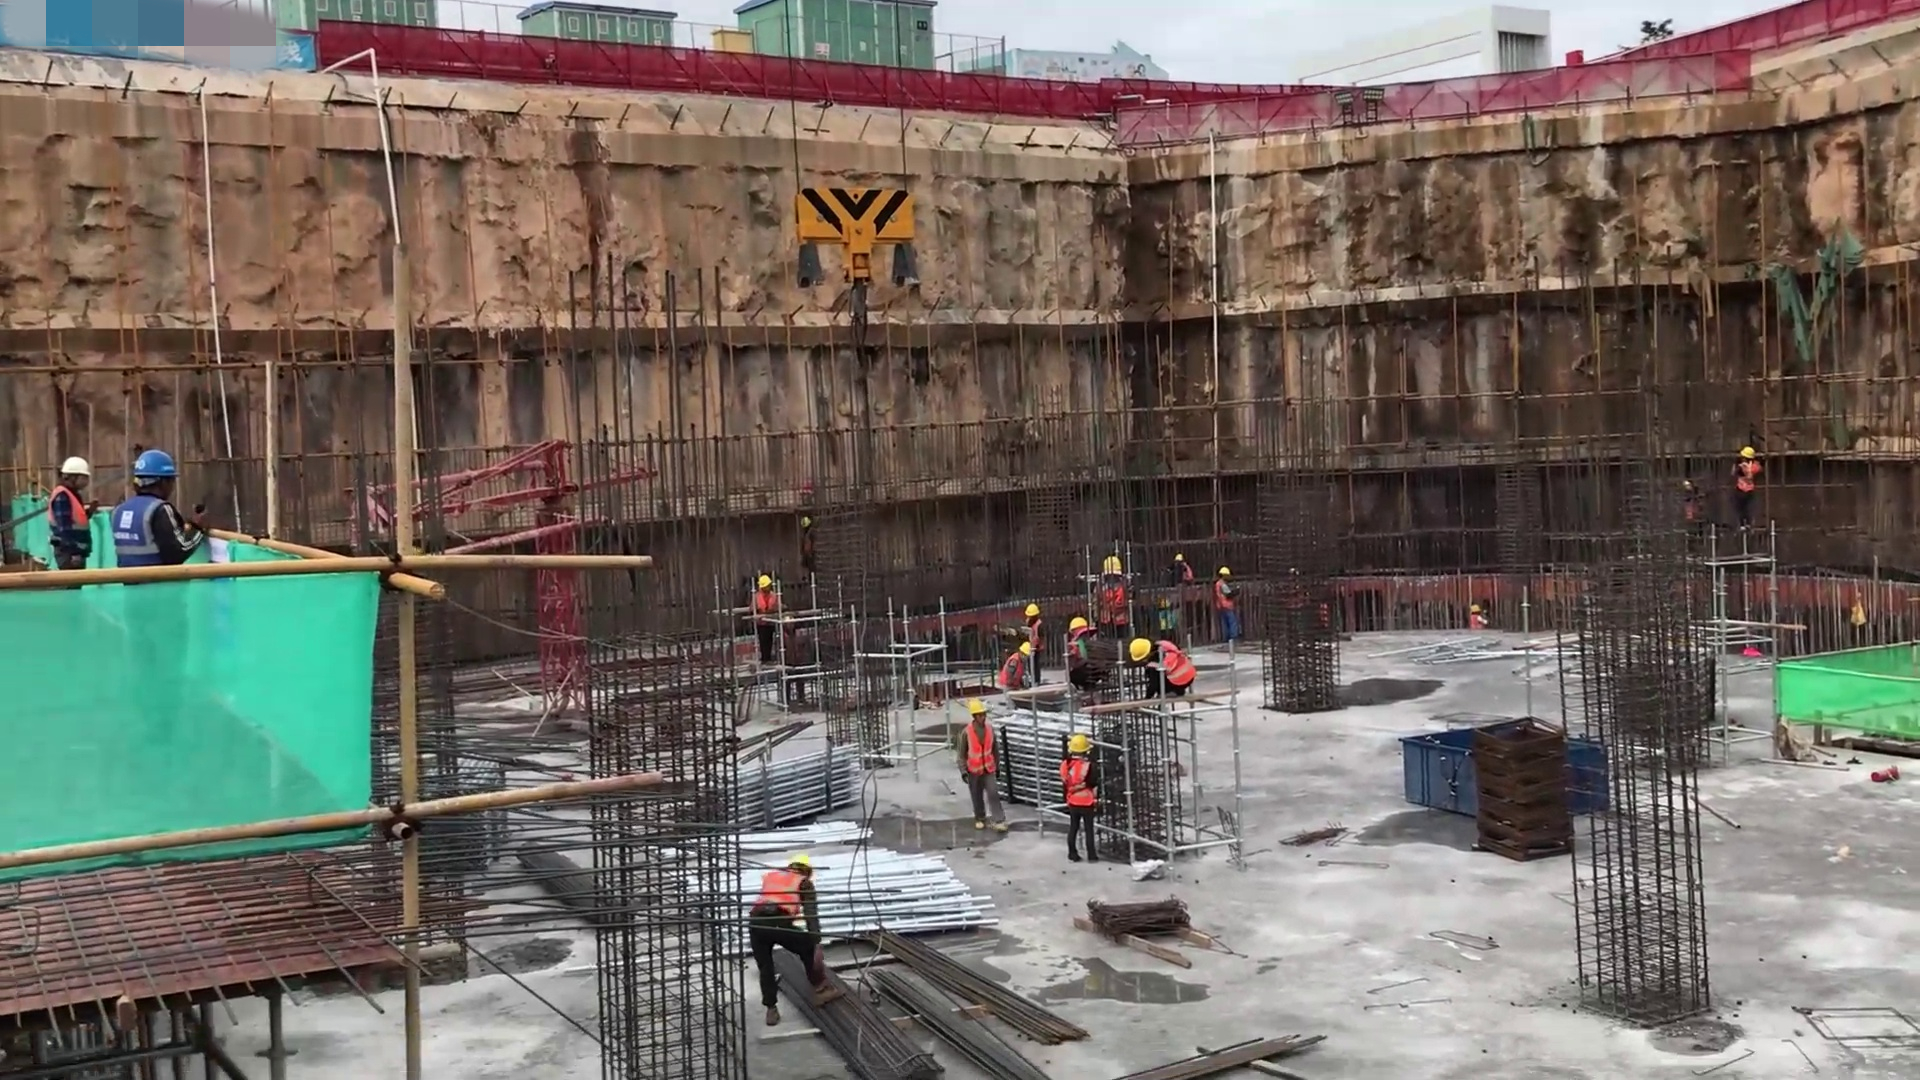helmet: (132, 449, 182, 481), (59, 455, 92, 479), (1131, 637, 1151, 662), (1069, 735, 1091, 755), (788, 853, 812, 869), (968, 699, 987, 717), (1068, 617, 1089, 633), (1103, 556, 1121, 574), (1025, 602, 1041, 618), (1740, 445, 1757, 460), (757, 573, 771, 589), (1019, 640, 1029, 660), (1219, 567, 1230, 577)
person: (750, 854, 843, 1028), (109, 446, 211, 567), (956, 699, 1011, 834), (44, 454, 102, 568), (1060, 733, 1107, 867), (1130, 632, 1204, 697), (1096, 553, 1138, 637), (1061, 616, 1107, 691), (750, 571, 783, 666), (1731, 442, 1761, 536), (1214, 566, 1243, 644), (999, 638, 1036, 695), (1025, 601, 1047, 676), (1172, 548, 1193, 584), (1467, 604, 1489, 635)
vest: (112, 493, 188, 571), (46, 483, 94, 557), (758, 869, 810, 928), (1151, 641, 1201, 688), (961, 724, 1006, 776), (1061, 757, 1097, 810), (1098, 580, 1133, 624), (1002, 655, 1030, 692), (1735, 463, 1761, 495), (1216, 578, 1236, 610)
